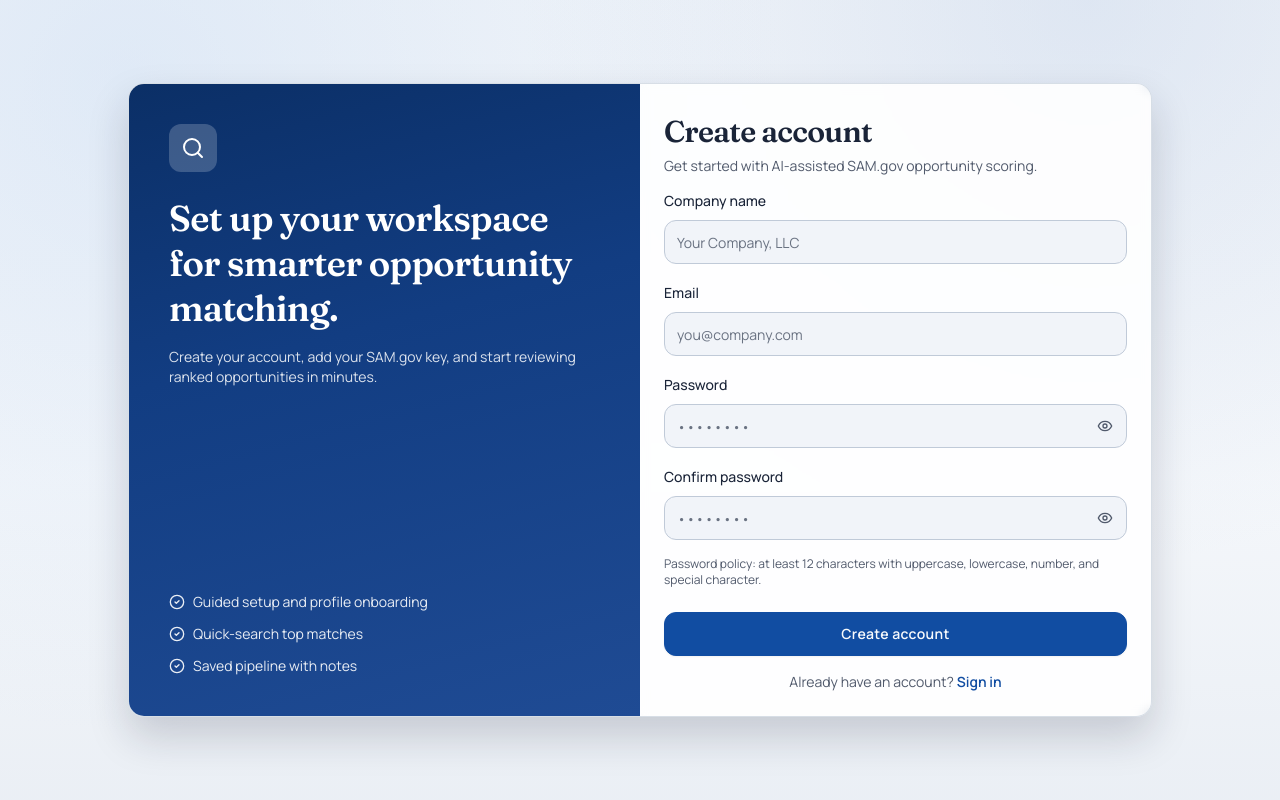
Test: auth page layout and validation › validates register confirm password mapping
Type "Acme" into the field labelled "Company name".
click(896, 242); type("Acme")  # box x1=664 y1=220 x2=1127 y2=264
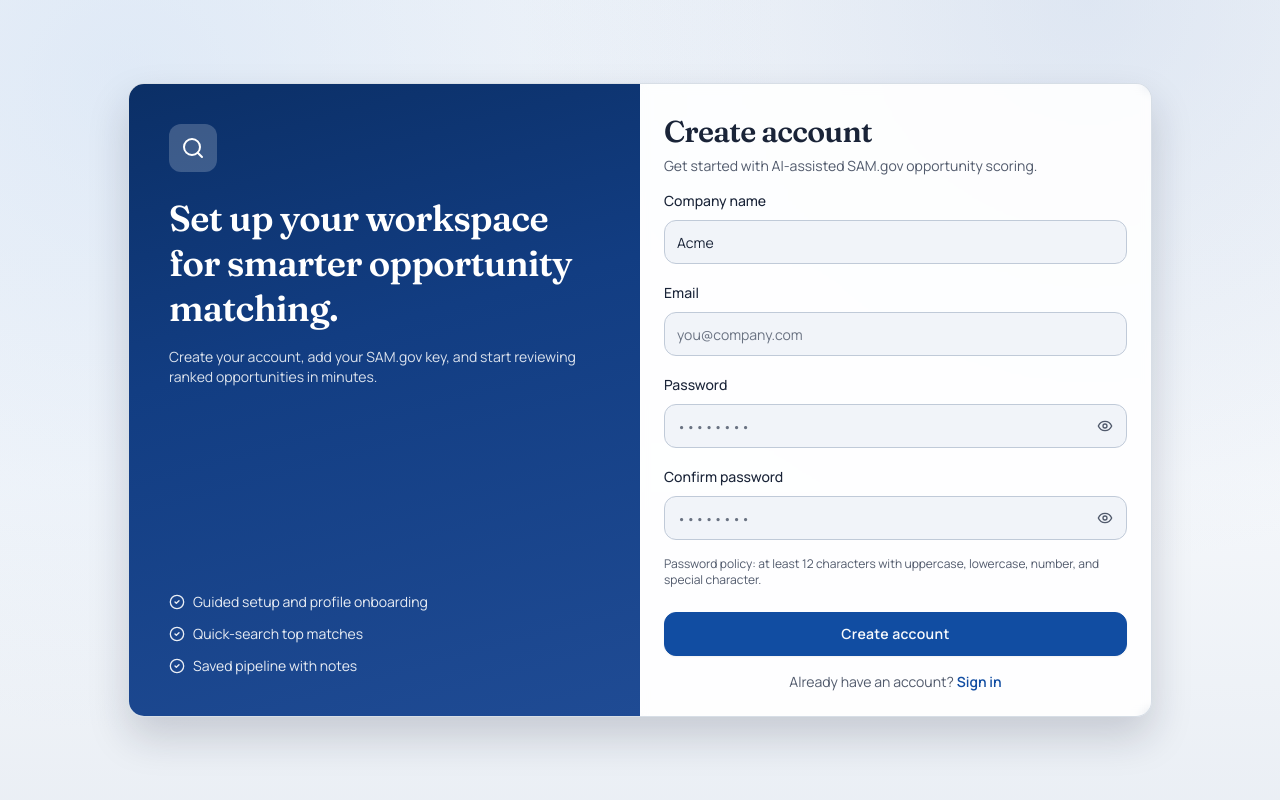
Type "owner@example.com" into the field labelled "Email".
click(896, 334); type("owner@example.com")  # box x1=664 y1=312 x2=1127 y2=356
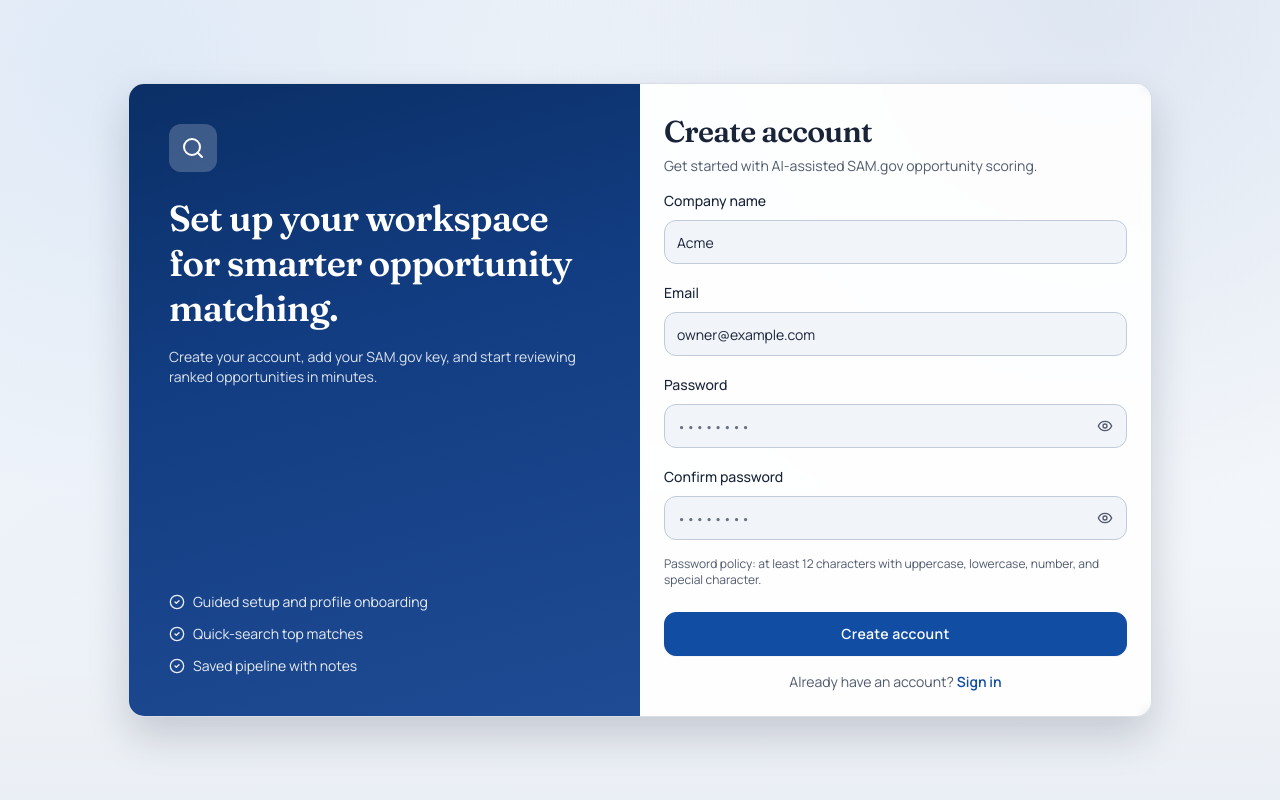
Type "securepassword" into the password field labelled "Password".
click(896, 426); type("securepassword")  # box x1=664 y1=404 x2=1127 y2=448
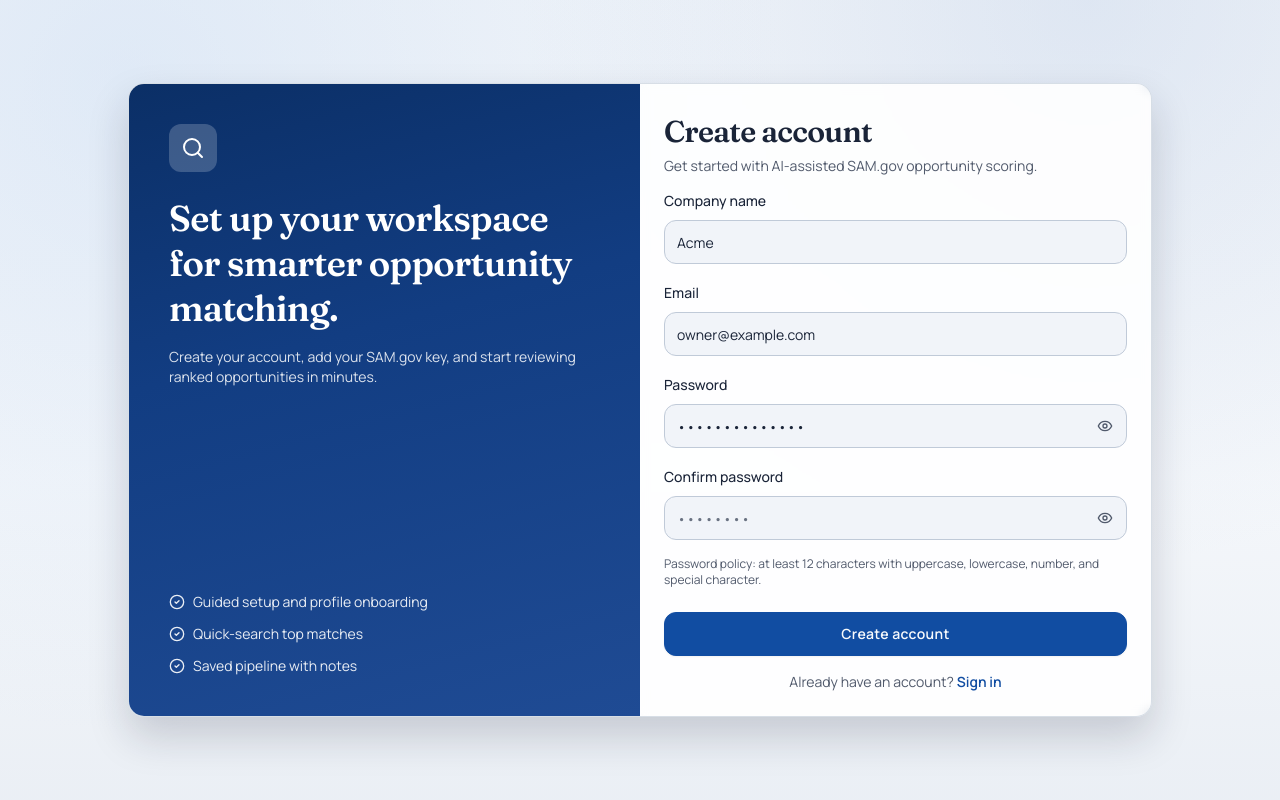
Type "differentpassword" into the password field labelled "Confirm password".
click(896, 518); type("differentpassword")  # box x1=664 y1=496 x2=1127 y2=540
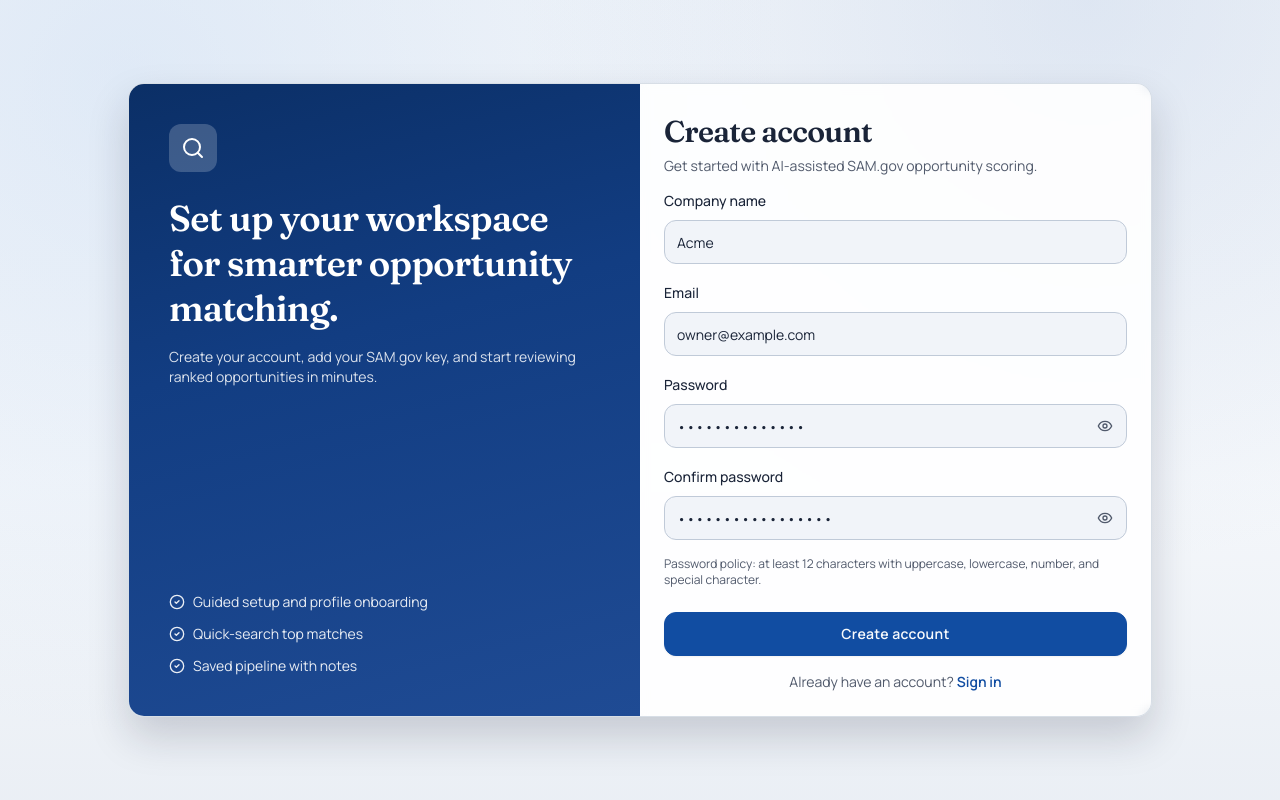
Click the button "Create account".
click(896, 634)  # box x1=664 y1=612 x2=1127 y2=656
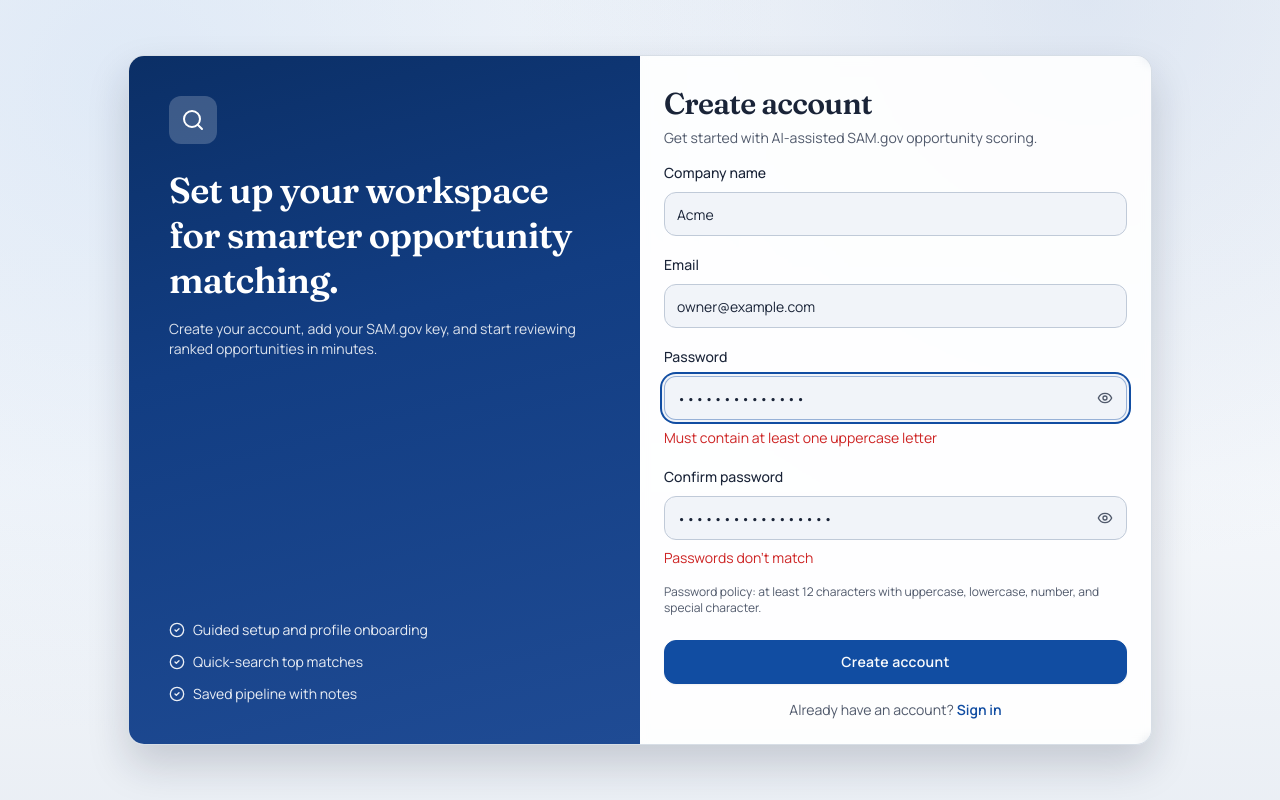
Result: the text "Passwords don't match" is shown at x1=664 y1=548 x2=813 y2=567
